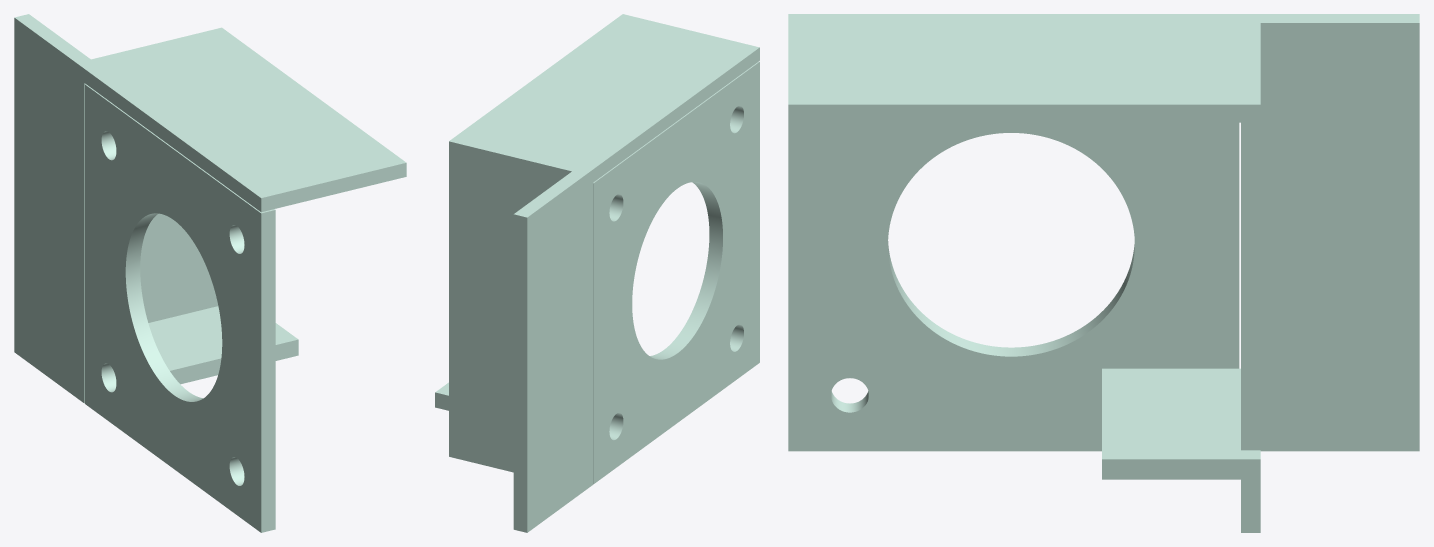
The picture shows the model from 3 angles, left to right: view 1: azimuth 30°, elevation 25°; view 2: azimuth 150°, elevation 25°; view 3: azimuth 270°, elevation 25°; orthographic projection. The views are drawn at different scales.
Visible parts, largest first — view 1: Renderer Node; view 2: Renderer Node; view 3: Renderer Node.
Boxes of the visible parts, bbox=[...] form: Renderer Node: bbox=[14, 14, 406, 532]; Renderer Node: bbox=[435, 14, 759, 532]; Renderer Node: bbox=[788, 14, 1419, 532].
Size of the model in its own units: 0.4297 by 0.8594 by 1.15.
